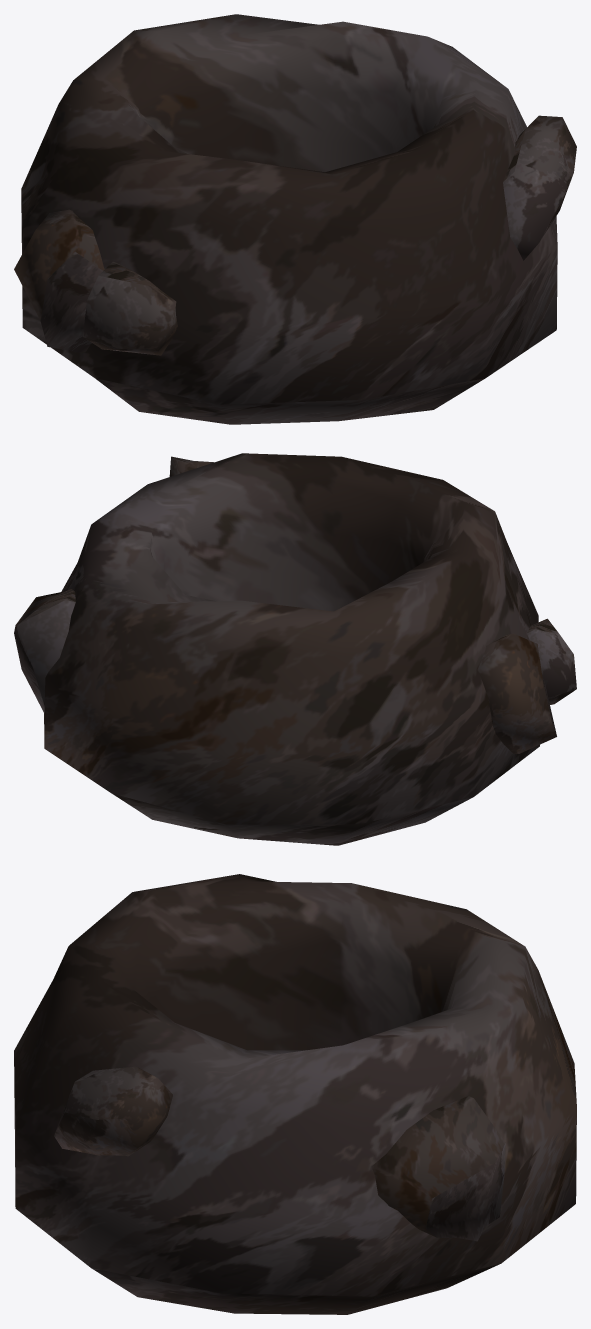
The model's file is dirtPile.fbx.
3 views of the same model, one above another, from view 1: azimuth 30°, elevation 25°; view 2: azimuth 150°, elevation 25°; view 3: azimuth 270°, elevation 25° (orthographic). The views are drawn at different scales.
Visible parts, largest first — view 1: DirtPile; view 2: DirtPile; view 3: DirtPile.
Part boxes in pixels (left/top/right/bottom): DirtPile: left=14, top=14, right=576, bottom=424; DirtPile: left=14, top=453, right=576, bottom=845; DirtPile: left=14, top=874, right=576, bottom=1314.
Size of the model in its own units: 3 by 1.61 by 2.8.
